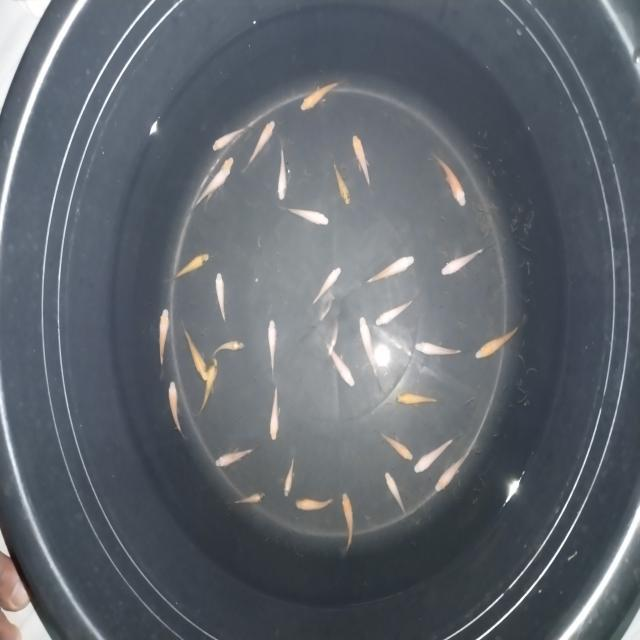nila: (430, 148, 470, 208), (240, 116, 280, 175), (413, 430, 463, 475), (187, 167, 232, 217), (474, 320, 526, 363), (361, 252, 418, 290), (295, 76, 347, 117), (432, 448, 476, 496), (162, 248, 211, 290), (203, 154, 236, 212), (180, 326, 210, 387), (320, 340, 358, 388), (357, 314, 382, 384), (439, 244, 487, 279), (307, 265, 343, 310), (350, 134, 376, 196), (194, 359, 220, 418), (278, 200, 332, 228), (212, 441, 260, 472), (208, 122, 255, 152), (374, 296, 418, 328), (377, 430, 415, 466), (166, 378, 188, 440), (338, 490, 358, 556), (384, 471, 409, 520), (154, 306, 171, 378), (275, 136, 292, 206), (413, 339, 464, 362), (331, 157, 352, 207), (212, 270, 230, 326), (268, 378, 282, 446), (288, 494, 336, 513), (281, 452, 300, 499), (226, 489, 272, 508), (266, 316, 279, 380), (393, 391, 444, 407), (210, 339, 248, 359)
